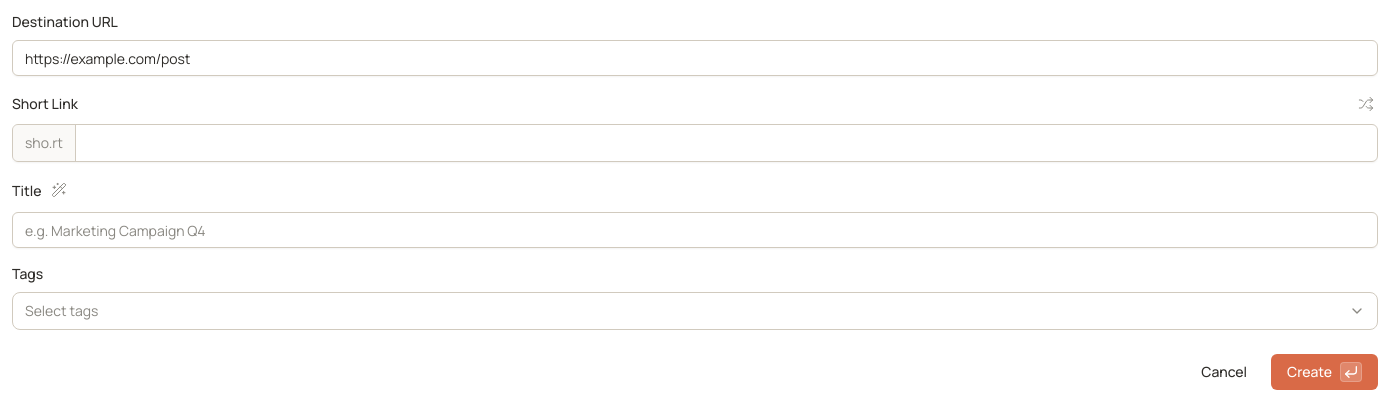
Test: LinkFormFields › title suggestion › fills the title suggested by the server for the destination URL
This screenshot has width=1390, height=407.
Step 1. Click the button named "Suggest a title from the page" → (59, 190), box [47,178,71,202]
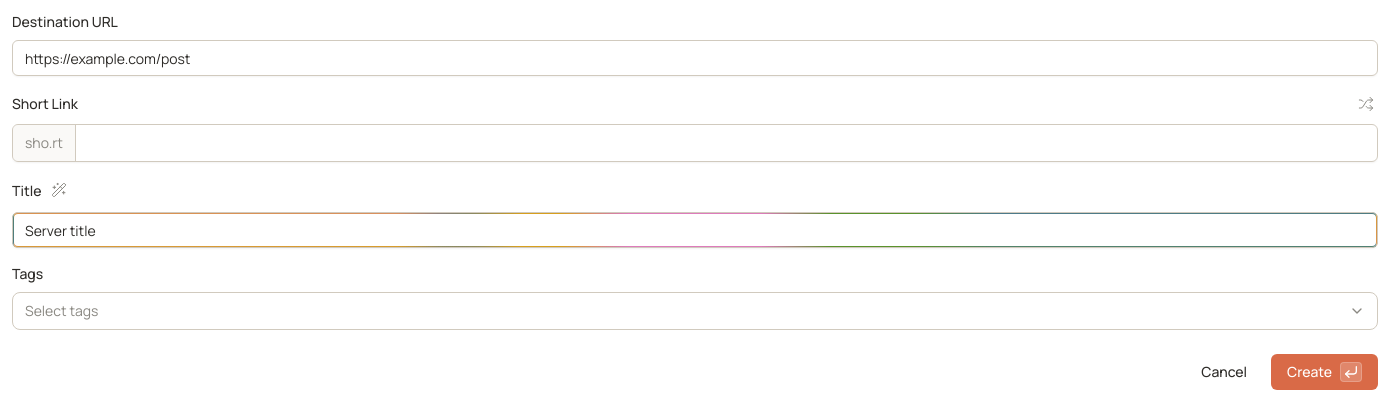
Expected: the field labelled "Title" holds "Server title", [12,212,1378,248]
